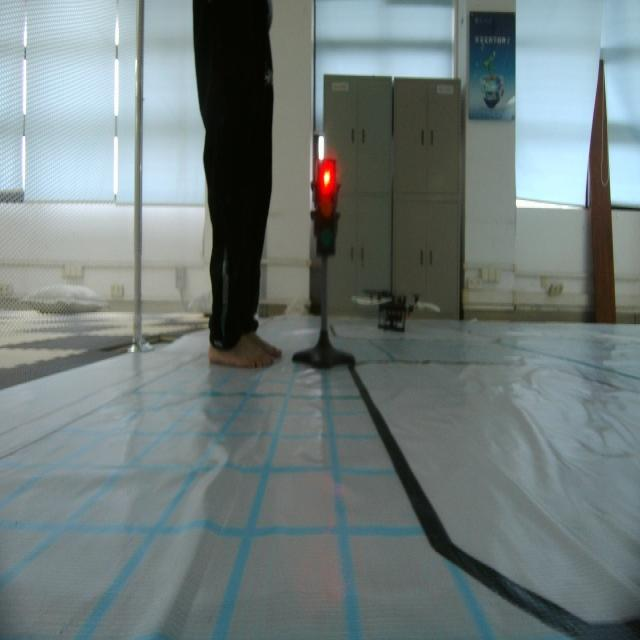red: (309, 158, 342, 264)
